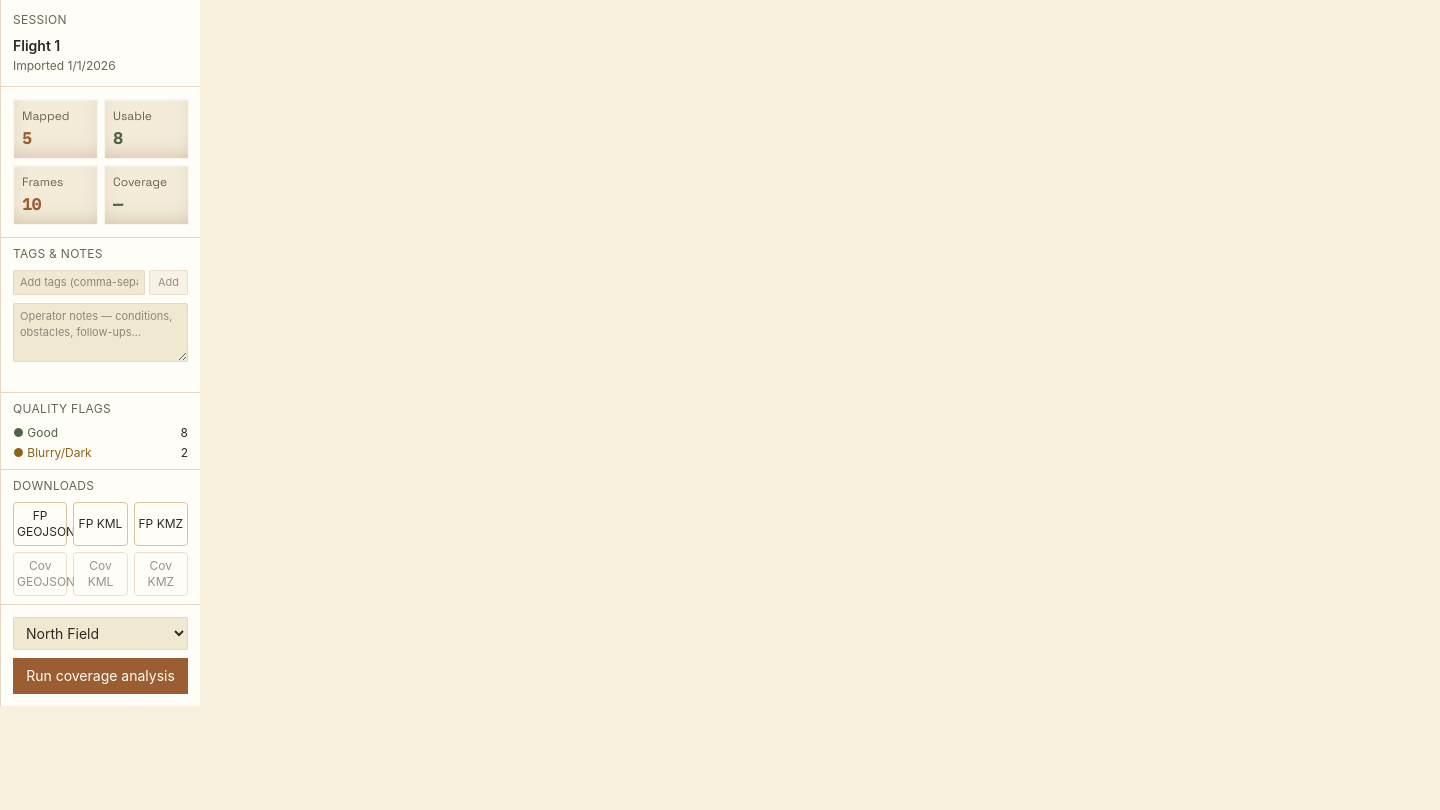
Test case: SessionSidebar — run coverage › renders visible error feedback when the run fails
Click the button "Run coverage analysis": (100, 676) x1=13 y1=658 x2=188 y2=694
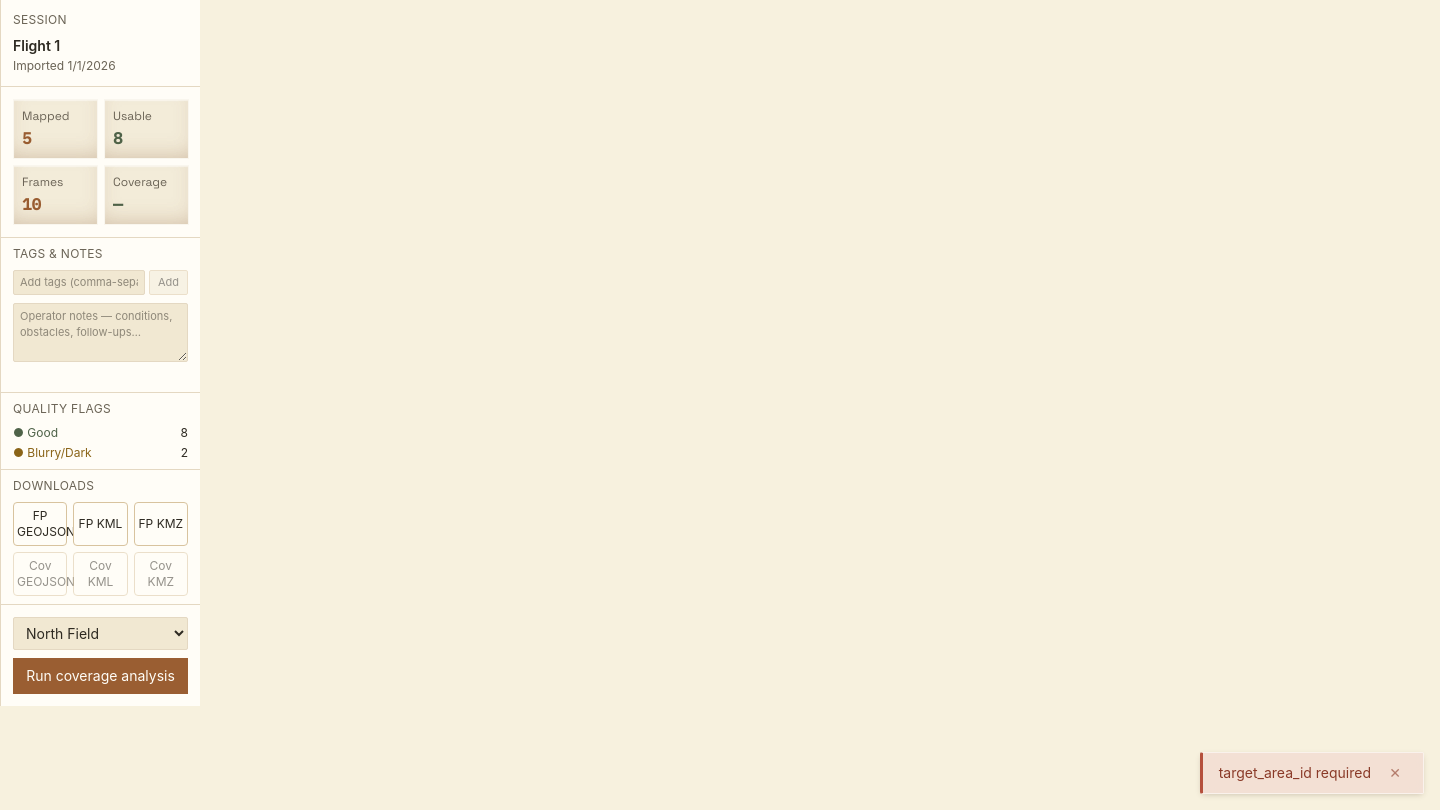
Expected: the text "target_area_id required" is shown, x1=1219 y1=763 x2=1371 y2=783
